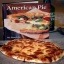pizza: (1, 37, 63, 61)
